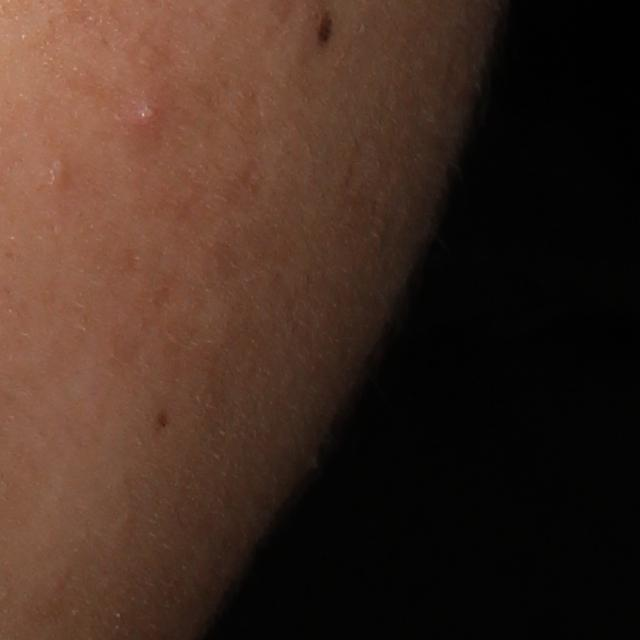comedo: (46, 155, 70, 185)
nevus: (315, 8, 335, 57), (156, 411, 169, 431)
papule: (126, 93, 169, 131)
